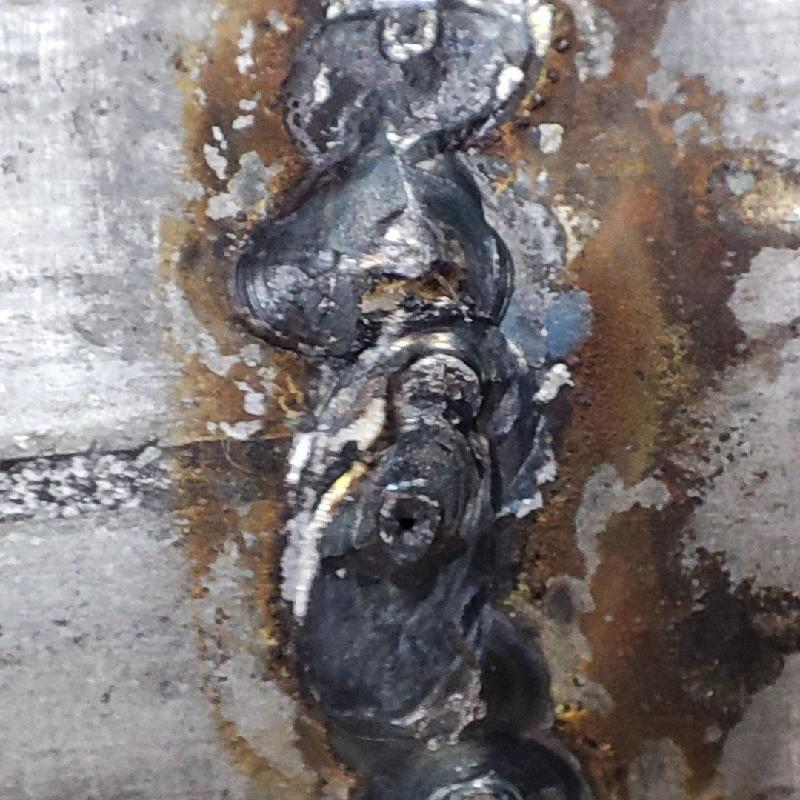Surface_pores: (376, 493, 443, 556)
